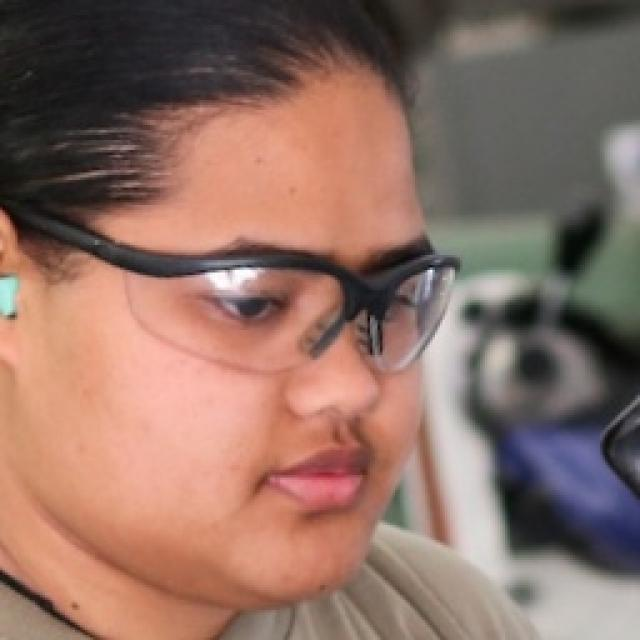glasses: (57, 201, 464, 374)
